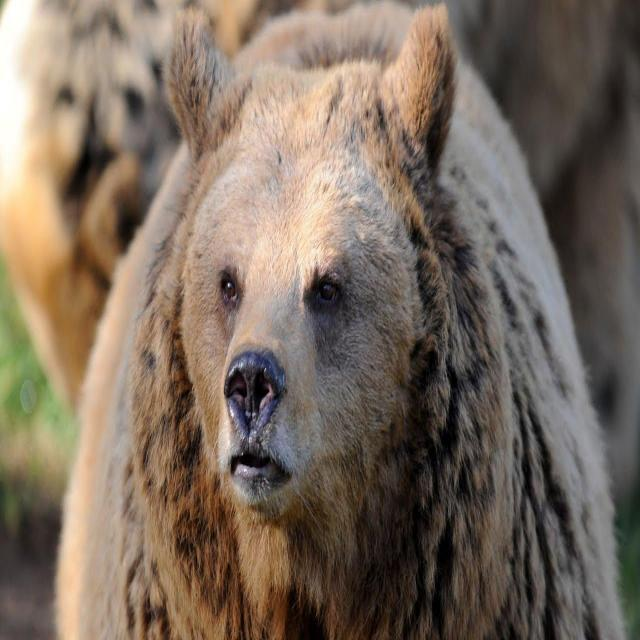Bear: (56, 2, 614, 640)
